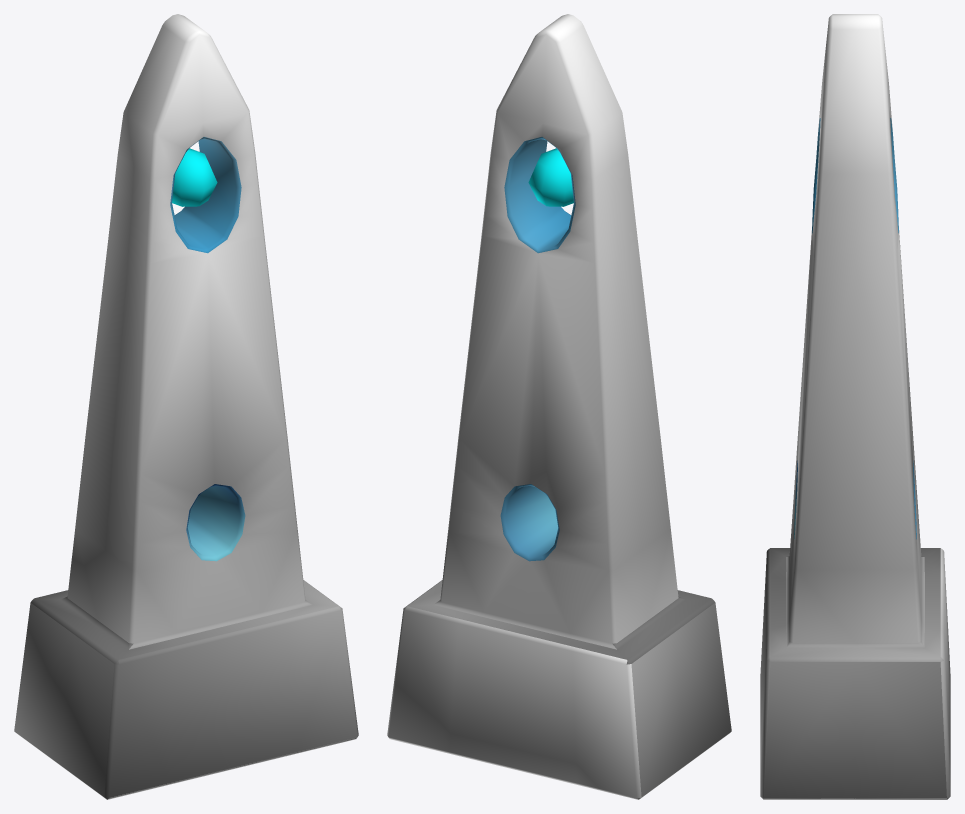
Rendered from Patung Batu.fbx.
3 views of the same model, side by side, from view 1: azimuth 30°, elevation 25°; view 2: azimuth 150°, elevation 25°; view 3: azimuth 270°, elevation 25° (orthographic).
Parts seen in each view (by area): view 1: Patung batu, Sphere; view 2: Patung batu, Sphere; view 3: Patung batu.
Boxes of the visible parts, x1,y1,x2,y2 form: Patung batu: [14, 14, 358, 799]; Sphere: [172, 148, 217, 206]; Patung batu: [387, 14, 731, 799]; Sphere: [528, 148, 573, 206]; Patung batu: [760, 14, 950, 799].
Bounding box in the file's own units: 334 × 896 × 213.
